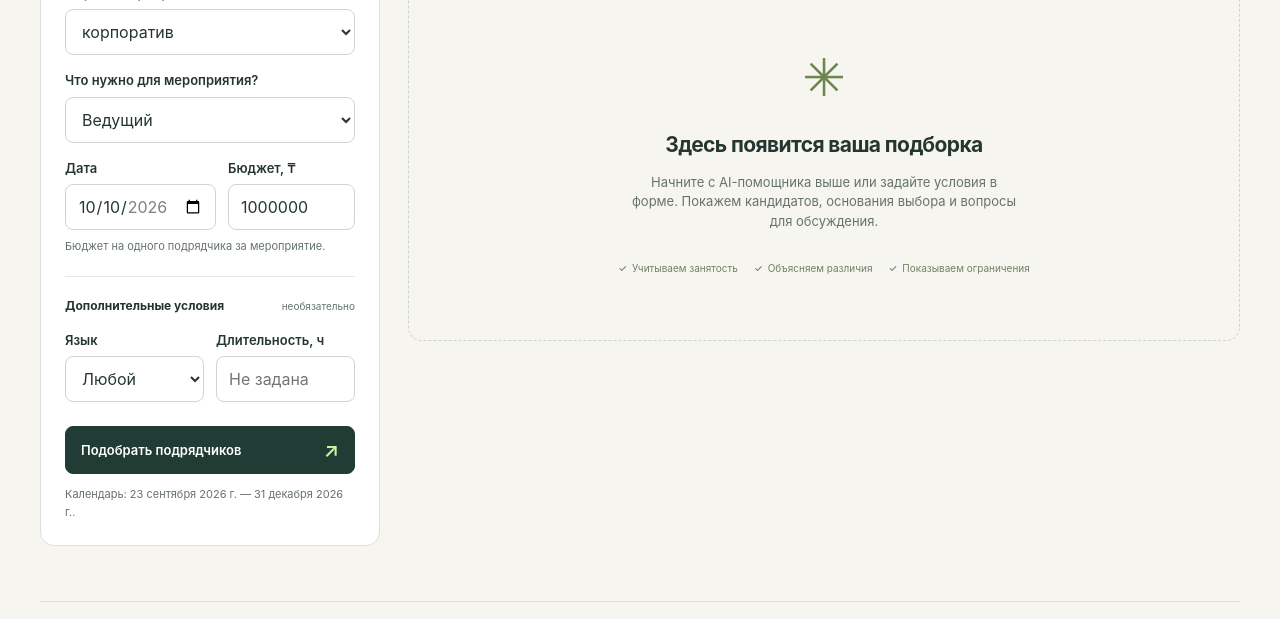
Scenario: AI assistant: user-reviewed brief and preference comparison › keeps an in-flight confirmed search valid when only the assistant draft changes
(page scrolled)
Click the button "Подобрать подрядчиков ↗" at (210, 450), box [65, 426, 355, 474]
(page scrolled)
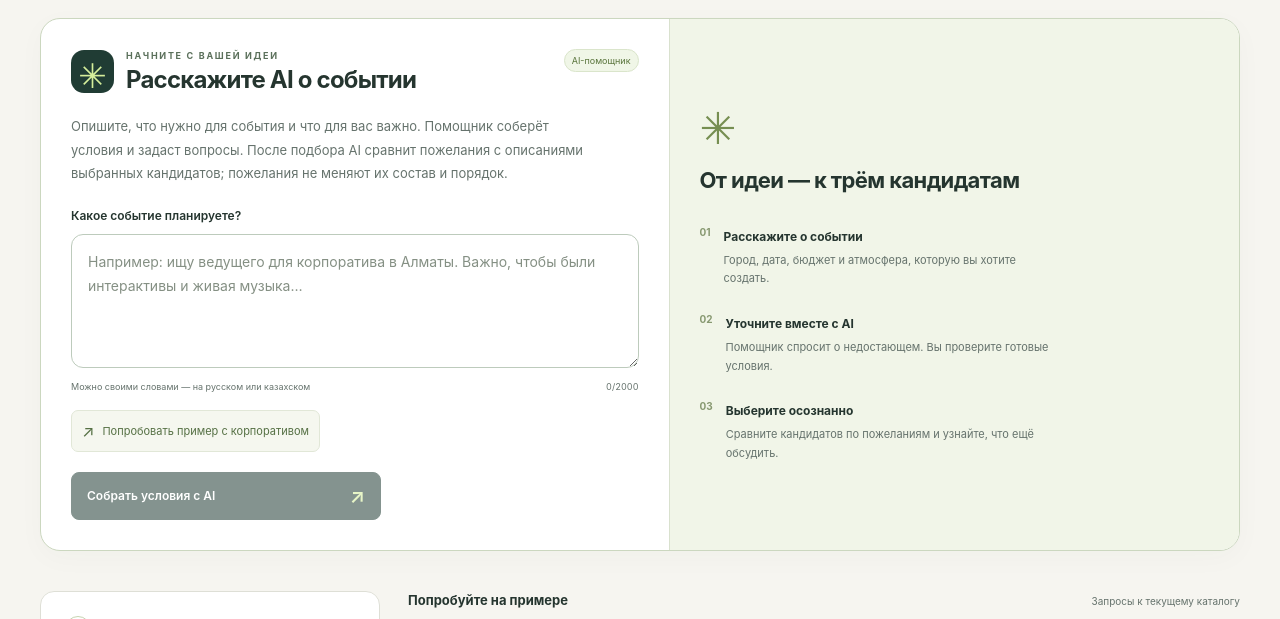
Replace the text in the text box labelled "Какое событие планируете?" with "Неподтверждённое пожелание" at (355, 301), box [71, 234, 638, 368]
(page scrolled)
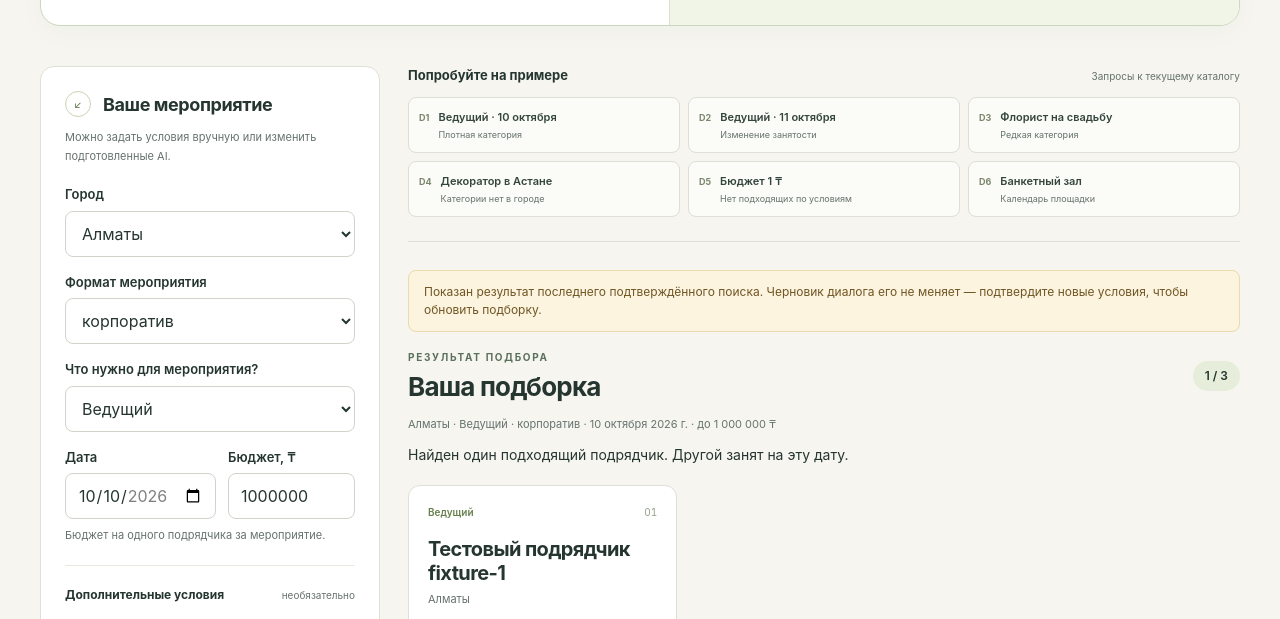
Expected: the heading "Тестовый подрядчик fixture-1" is shown, [428, 537, 657, 585]
Expected: the text "Показан результат последнего подтверждённого поиска" is shown, [424, 284, 1188, 317]
